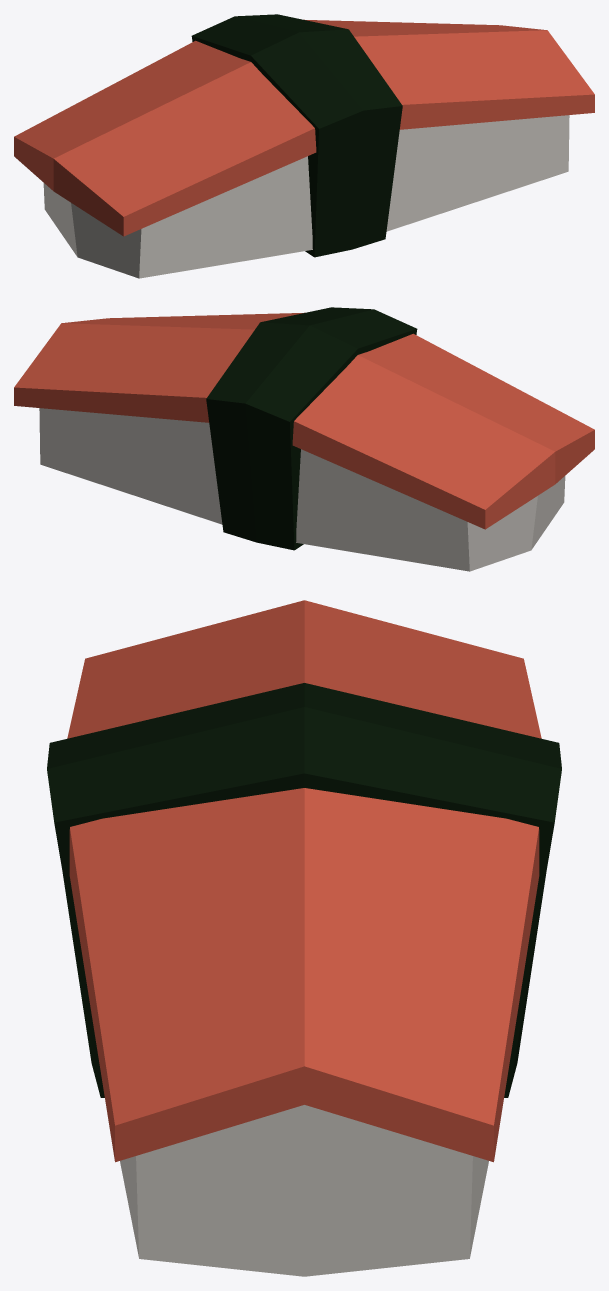
File: niguiriSalmonWithNori.fbx
The picture shows the model from 3 angles, top to bottom: view 1: azimuth 30°, elevation 25°; view 2: azimuth 150°, elevation 25°; view 3: azimuth 270°, elevation 25°; orthographic projection. The views are drawn at different scales.
Parts seen in each view (by area): view 1: niguiriSalmonWithNori; view 2: niguiriSalmonWithNori; view 3: niguiriSalmonWithNori.
Boxes of the visible parts, x1,y1,x2,y2 form: niguiriSalmonWithNori: (14, 14, 594, 278); niguiriSalmonWithNori: (14, 307, 594, 571); niguiriSalmonWithNori: (47, 600, 561, 1276).
Bounding box in the file's own units: 13.43 × 4.63 × 6.07.
Materials: 1 (1 with a texture image).
